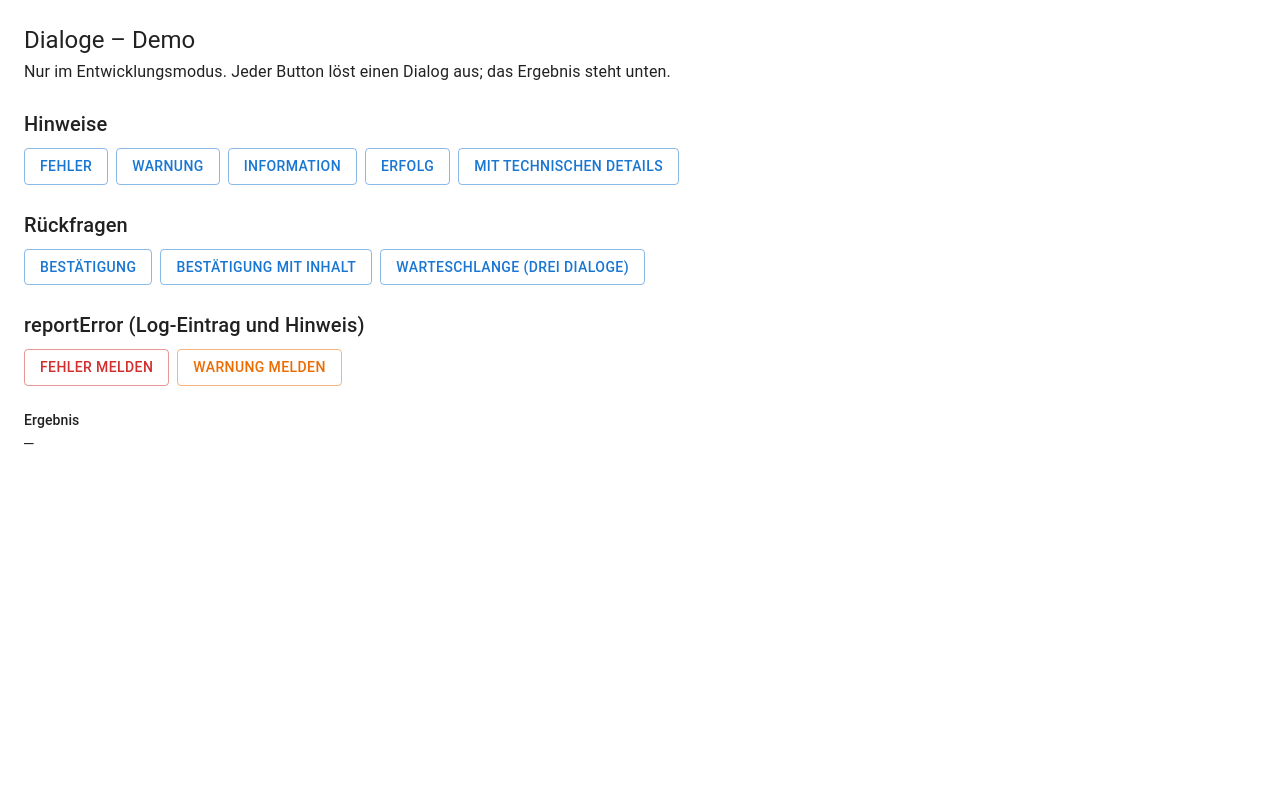
it: DialogDemo › shows the answer of a confirmation
The image size is (1280, 800).
Click the button with test id "app.dialog-demo-confirm".
click(88, 267)  # box 24,248 -> 152,285
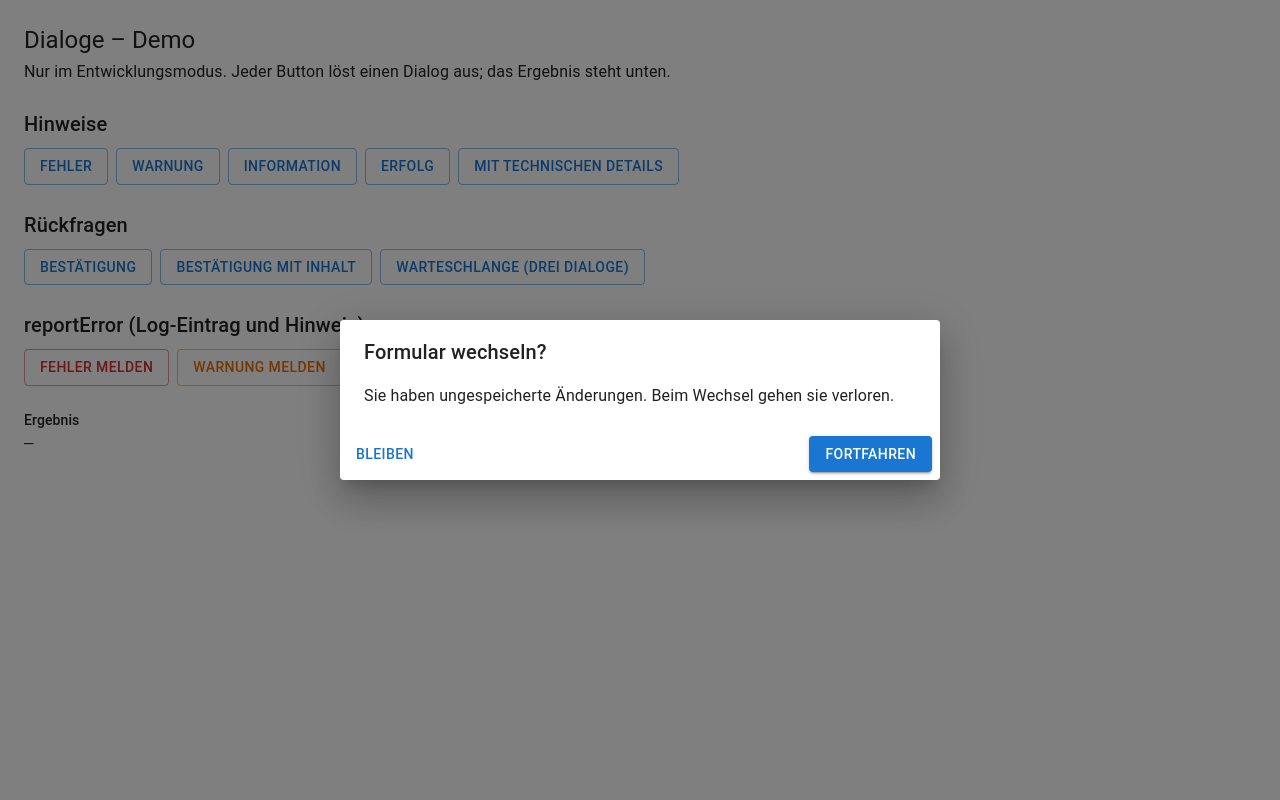
Click the button with test id "core.modal-confirm".
click(871, 454)  # box 810,436 -> 932,472
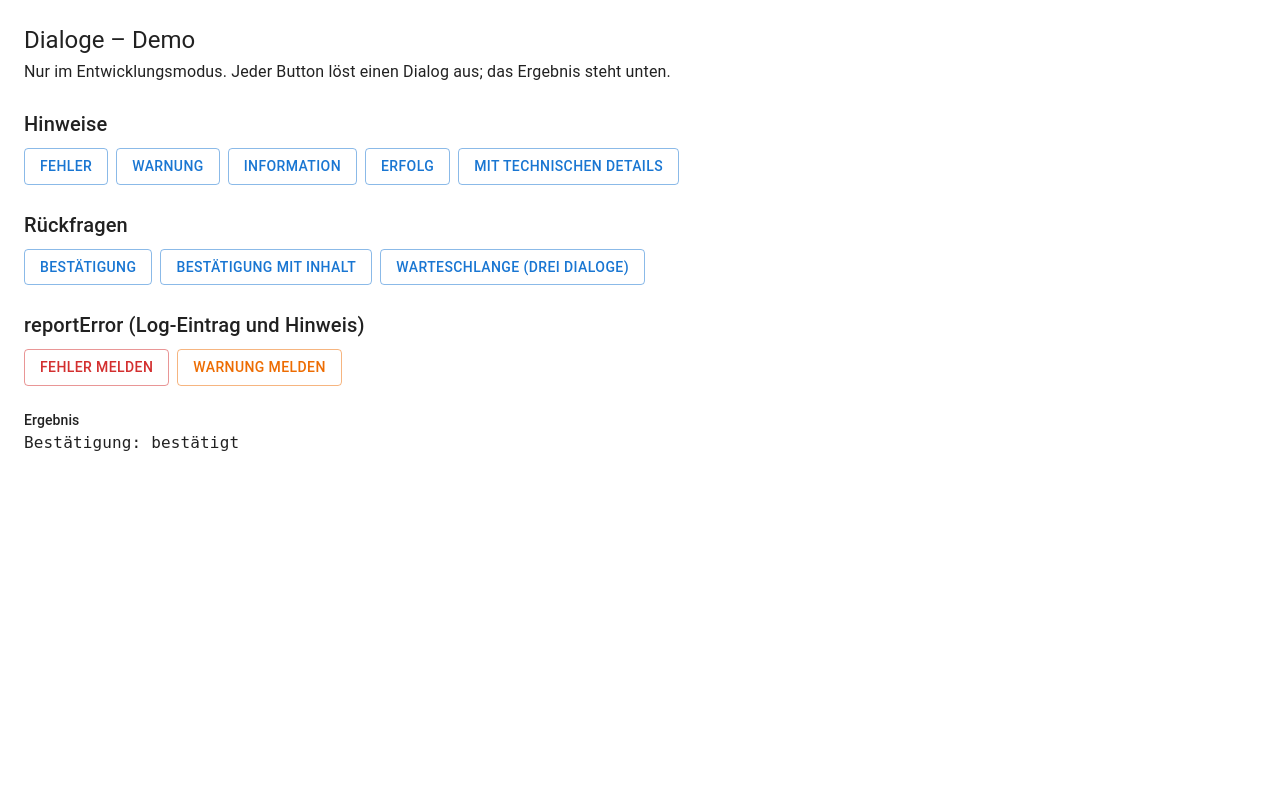
expect the text with test id "app.dialog-demo-result" shows "bestätigt": met, box 24,434 -> 239,452
Click the button with test id "app.dialog-demo-confirm".
click(88, 267)  # box 24,248 -> 152,285
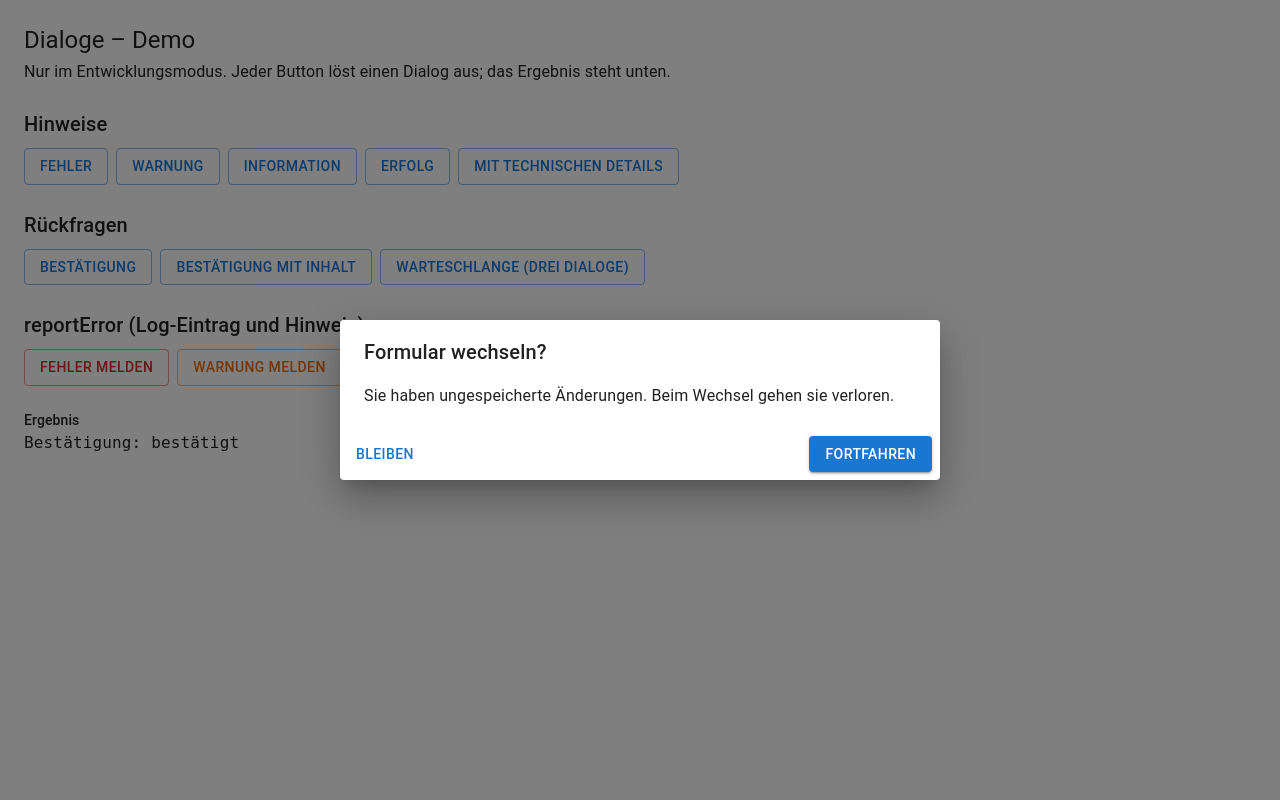
Click the button with test id "core.modal-cancel".
click(385, 454)  # box 348,436 -> 422,472
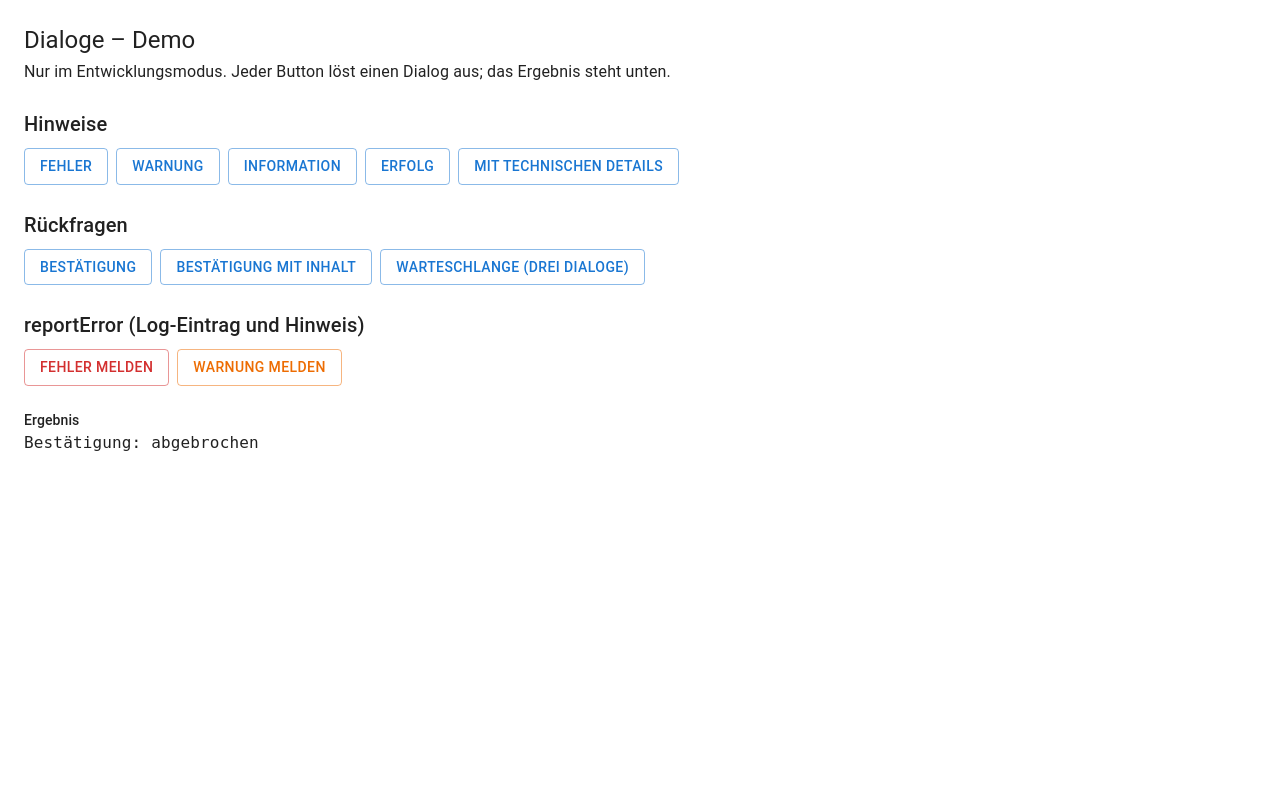
expect the text with test id "app.dialog-demo-result" shows "abgebrochen": met, box 24,434 -> 259,452
